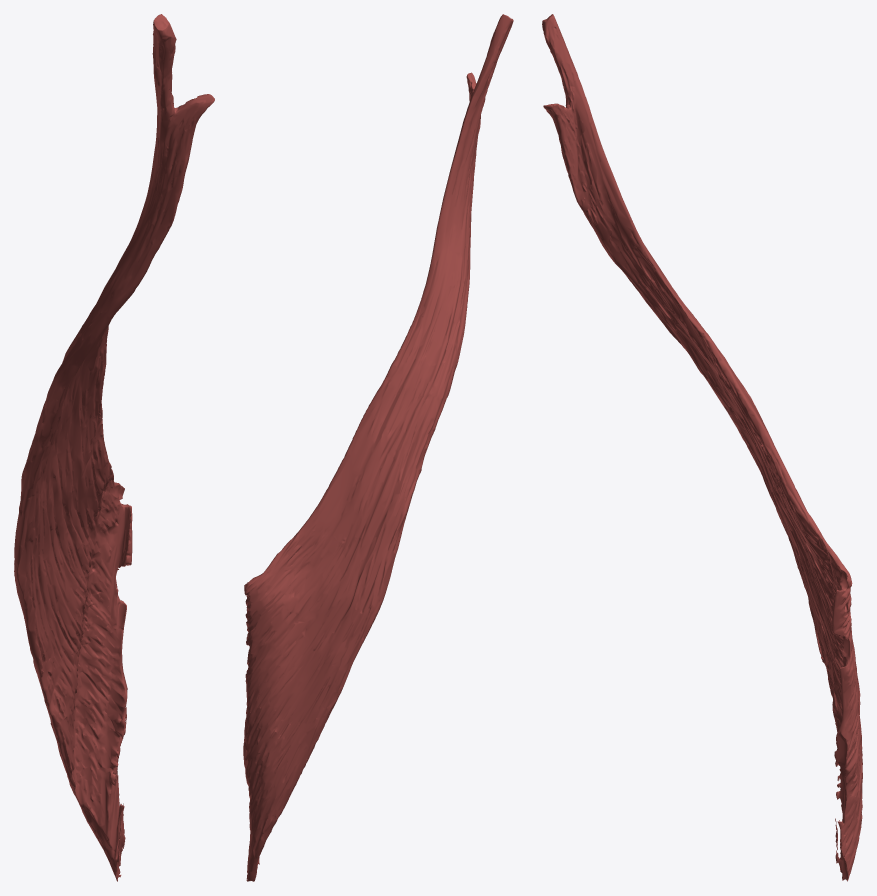
File: FMA22726.glb
3 views of the same model, side by side, from view 1: azimuth 30°, elevation 25°; view 2: azimuth 150°, elevation 25°; view 3: azimuth 270°, elevation 25° (orthographic). The views are drawn at different scales.
Visible parts, largest first — view 1: FMA22726; view 2: FMA22726; view 3: FMA22726.
Boxes of the visible parts, x1,y1,x2,y2 form: FMA22726: [14, 14, 214, 881]; FMA22726: [243, 14, 513, 881]; FMA22726: [542, 14, 862, 881].
Bounding box in the file's own units: 0.0423 × 0.2496 × 0.0894.
